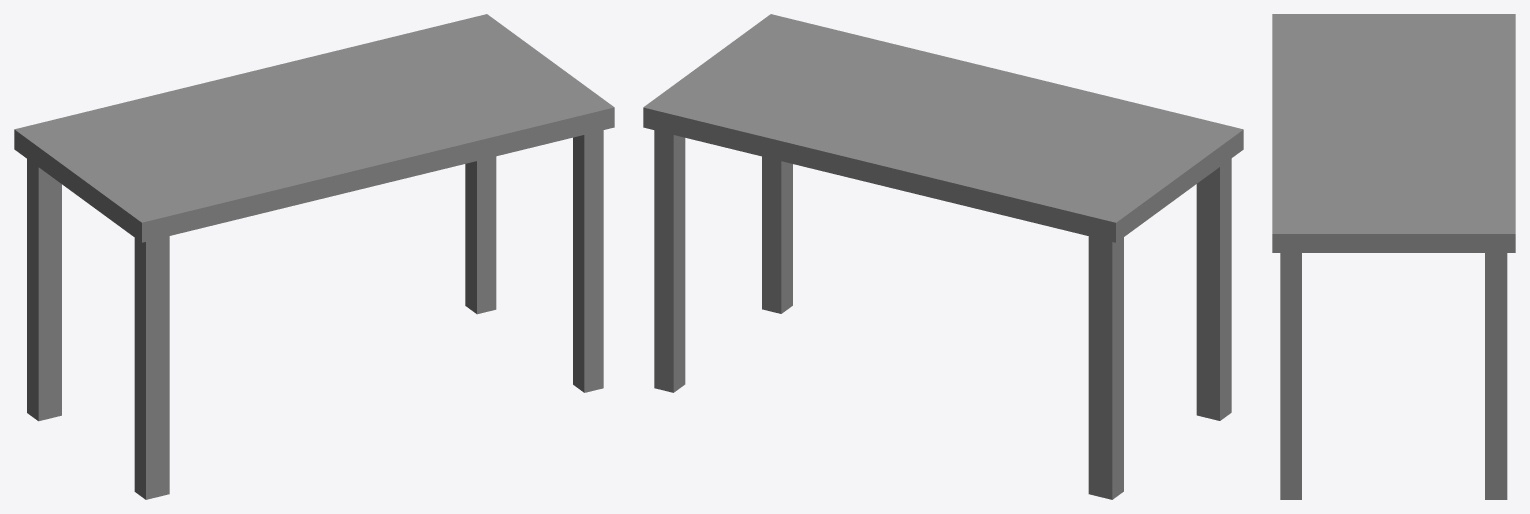
File: f_kitchen_table.fbx
3 views of the same model, side by side, from view 1: azimuth 30°, elevation 25°; view 2: azimuth 150°, elevation 25°; view 3: azimuth 270°, elevation 25° (orthographic). The views are drawn at different scales.
Parts seen in each view (by area): view 1: kitchen_table; view 2: kitchen_table; view 3: kitchen_table.
Part boxes in pixels (x1,y1,x2,y2): kitchen_table: (14, 14, 614, 499); kitchen_table: (643, 14, 1243, 499); kitchen_table: (1272, 14, 1515, 499).
Bounding box in the file's own units: 121 × 68.94 × 56.5.
1 material, 1 textured.
